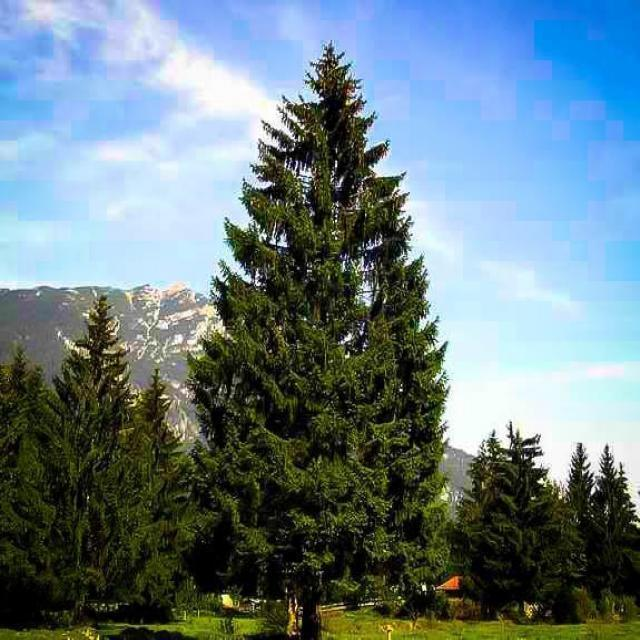tree: (190, 39, 452, 639), (55, 301, 192, 615), (0, 333, 72, 625), (474, 432, 574, 616), (559, 439, 640, 597)
